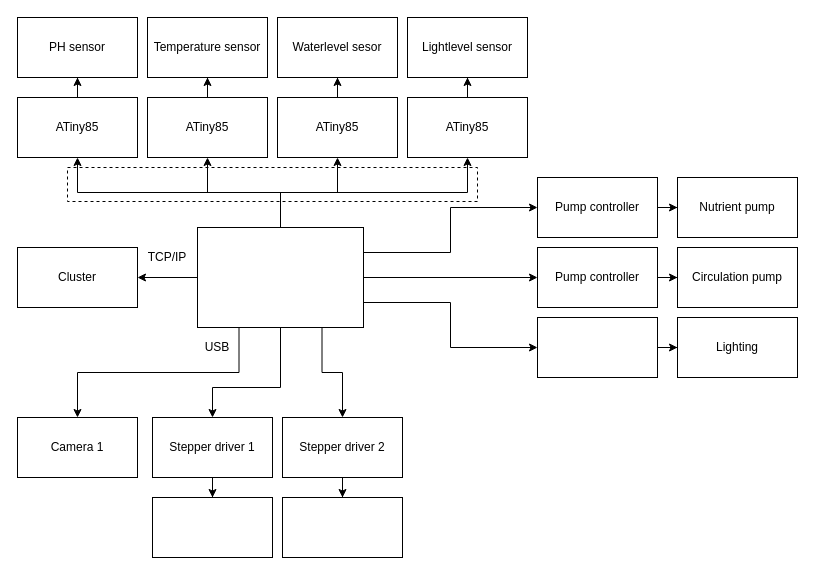
Image size: 815x575. Some labels were removed from this diagram. The shapes that lost their labels are listed below. From the top down, each one's box as (x1, y1, x2, y2) in pixels, then its label:
(66, 166, 478, 202): I²C
(196, 226, 364, 328): Raspberry Pi 3B
(536, 316, 658, 378): Light controller
(152, 496, 272, 558): Stepper motor 1
(282, 496, 402, 558): Stepper motor 2
